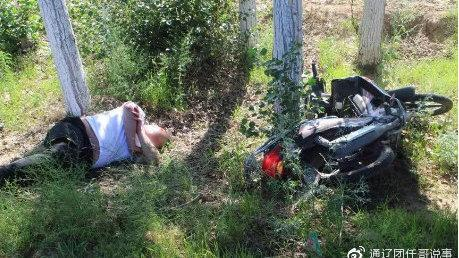Fall-Detected: (0, 93, 173, 195)
